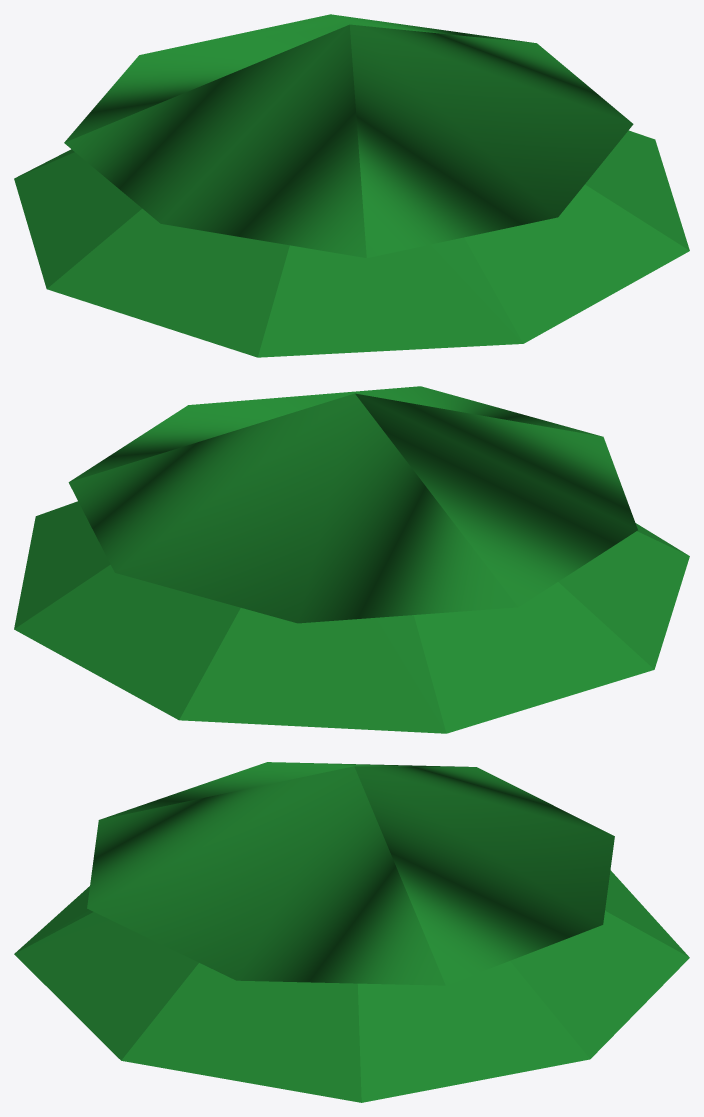
File: tree.obj
The picture shows the model from 3 angles, top to bottom: view 1: azimuth 30°, elevation 25°; view 2: azimuth 150°, elevation 25°; view 3: azimuth 270°, elevation 25°; orthographic projection. The views are drawn at different scales.
Parts seen in each view (by area): view 1: Tree1; view 2: Tree1; view 3: Tree1.
Part boxes in pixels (left/top/right/bottom): Tree1: left=14, top=14, right=689, bottom=357; Tree1: left=14, top=386, right=689, bottom=733; Tree1: left=14, top=762, right=689, bottom=1102.
Size of the model in its own units: 5.43 by 2.03 by 5.35.
1 material, 1 textured.
